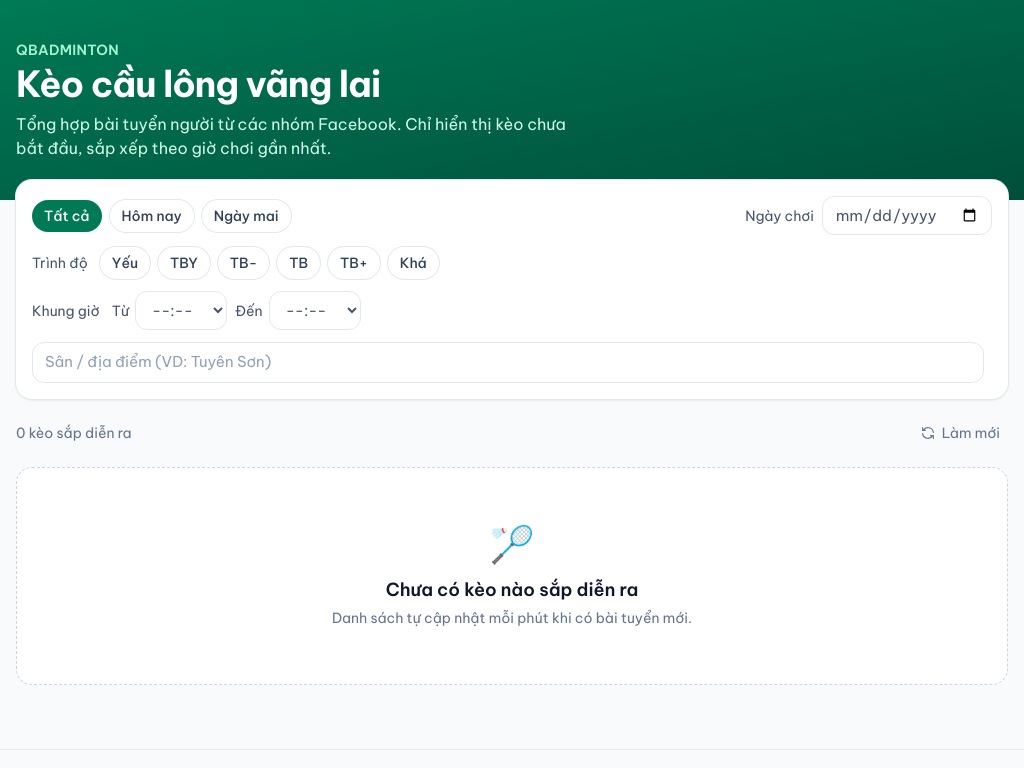
HomePage › passes filters to the API and mirrors them in the URL
Expected: the heading "Chưa có kèo nào sắp diễn ra" is shown, [386, 578, 638, 601]
In the search field labelled "địa điểm": (508, 363) [32, 342, 984, 383], type "Tuyên Sơn"
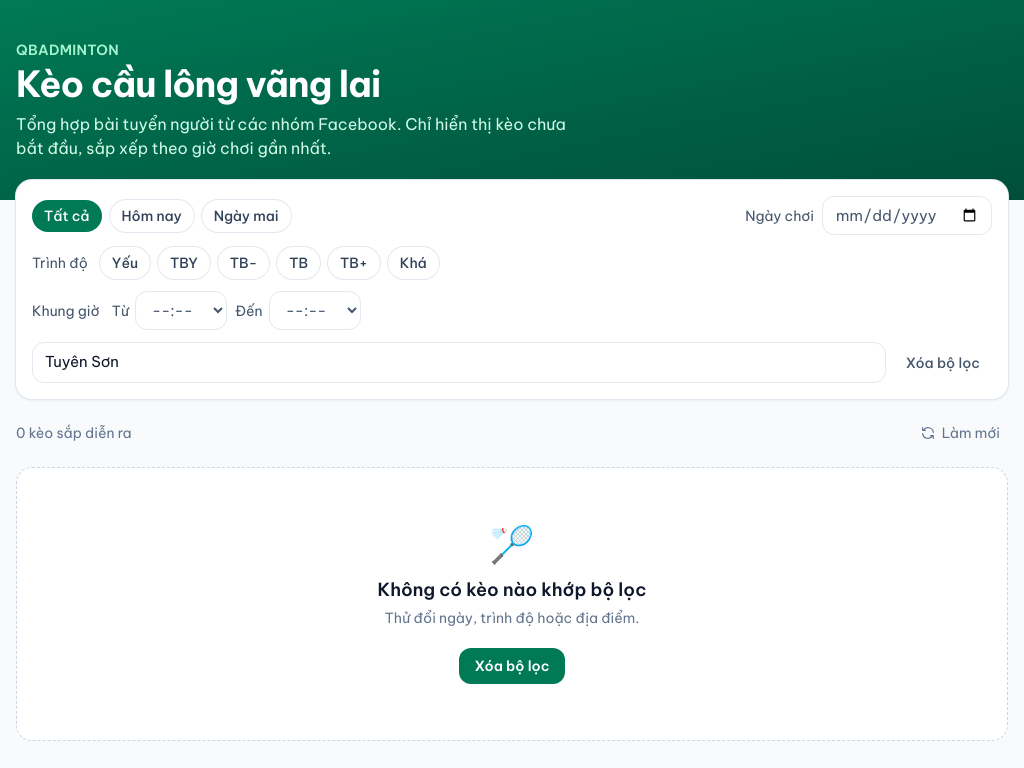
Expected: the heading "Không có kèo nào khớp bộ lọc" is shown, [378, 578, 646, 601]
